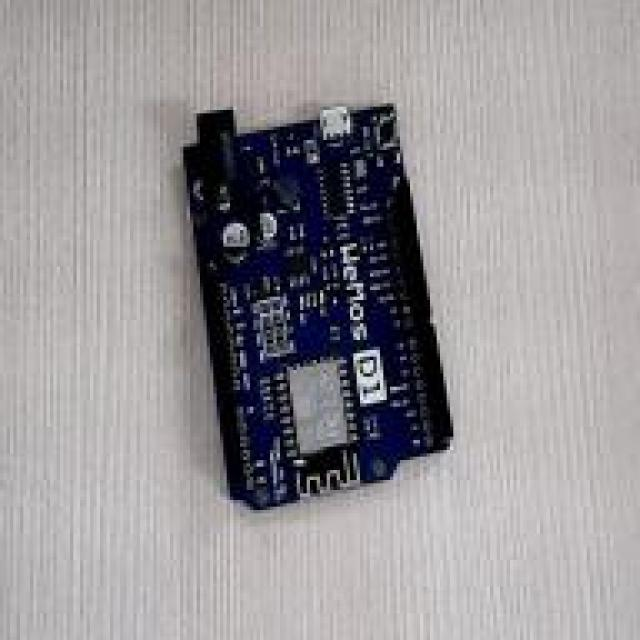Wemos: (184, 104, 451, 508)
